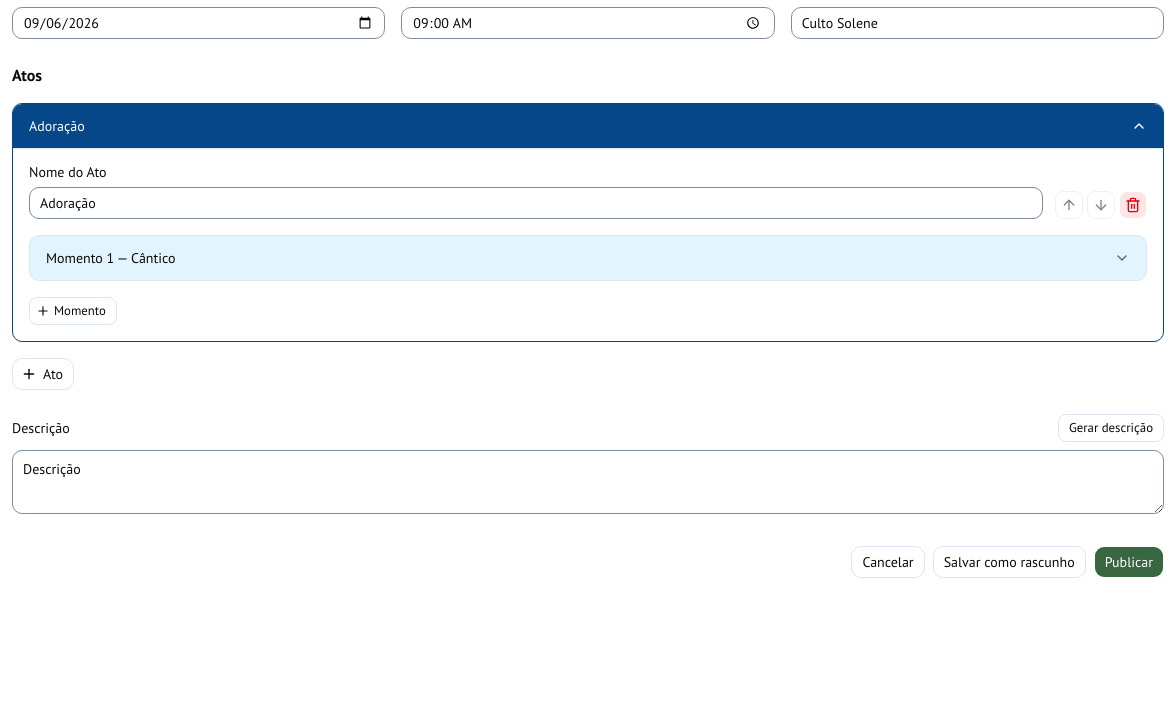
Test: LiturgyForm Cântico › shows the search for a Momento without a Cântico and still blocks publishing
What coordinates should you click on to do the following:
click the button "Momento 1 — Cântico"
I would click on:
 (76, 258)
Its box is [30, 236, 1146, 280].
(page scrolled)
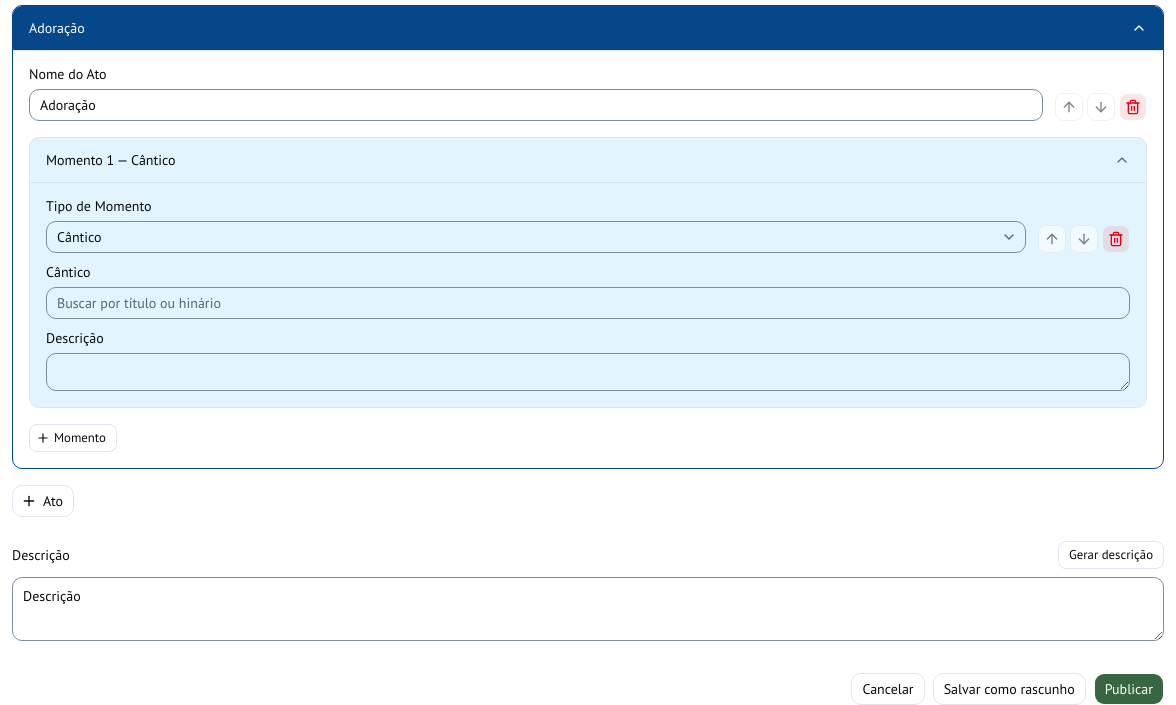
Expected: the dropdown labelled "Cântico" is shown, [46, 287, 1130, 319]
